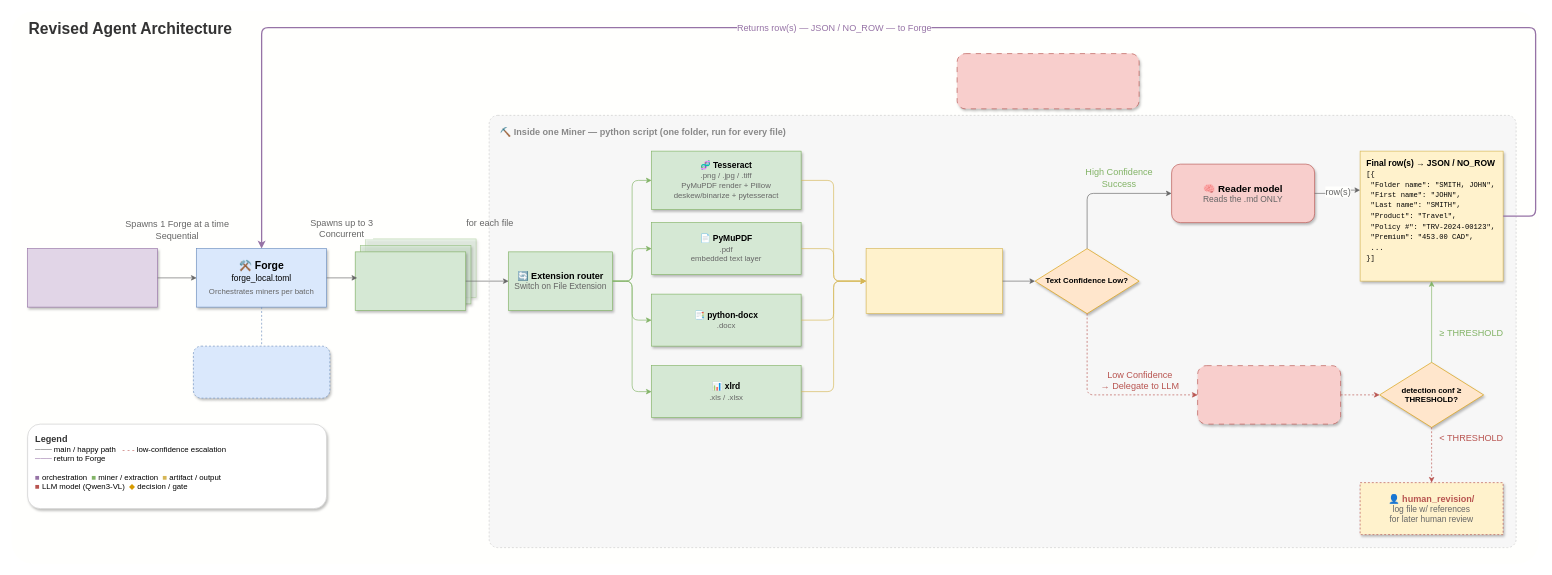
This 1552x575 diagram has some shape labels left out. Each missing label, with the centre of its shape:
Forge aggregation dedup + normalize money/strings → tmp/batch_{N}_table.csv: (x=262, y=373)
⛏️ Miner ×3 python script 1 folder each up to 3 concurrent: (x=411, y=282)
💻 Codex CLI Main_Prompt.md picks next 4 batches from git log: (x=93, y=278)
📝 Extraction output Writes .md + Extraction Confidence Score: (x=935, y=281)
🧠 LLM vision fallback Native vision on rendered page: (x=1269, y=395)
🧠 Qwen3-VL-32B Ollama · OLLAMA_NUM_PARALLEL=3 shared backend · all miners: (x=1048, y=81)
